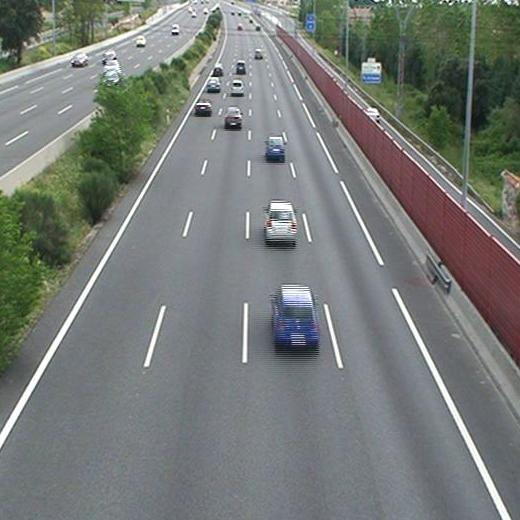car: (272, 287, 318, 345), (264, 202, 297, 240), (266, 137, 284, 158), (224, 107, 242, 127), (195, 99, 211, 113), (206, 78, 221, 90), (230, 82, 243, 95), (213, 63, 223, 75), (237, 61, 246, 74), (255, 48, 264, 60)
